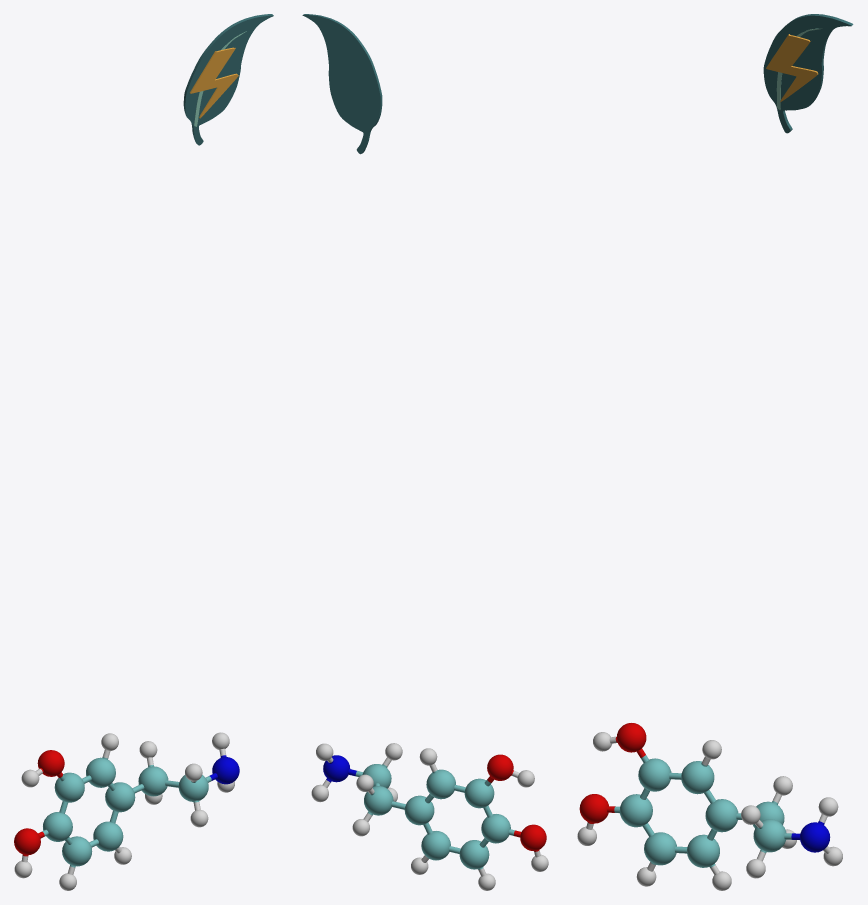
Rendered from dopamina.glb.
3 renders of one model, left to right at view 1: azimuth 30°, elevation 25°; view 2: azimuth 150°, elevation 25°; view 3: azimuth 330°, elevation 25°, orthographic. The views are drawn at different scales.
Visible parts, largest first — view 1: dopamina, path182, path186; view 2: dopamina, path182; view 3: dopamina, path182, path186.
Boxes of the visible parts, <box> form: dopamina: <box>14,732,239,890</box>; path182: <box>183,14,273,145</box>; path186: <box>190,47,238,118</box>; dopamina: <box>311,743,548,890</box>; path182: <box>302,14,382,154</box>; dopamina: <box>577,723,842,890</box>; path182: <box>763,14,853,133</box>; path186: <box>766,34,818,102</box>.
Bounding box in the file's own units: 1.78 × 5.64 × 0.5698.
